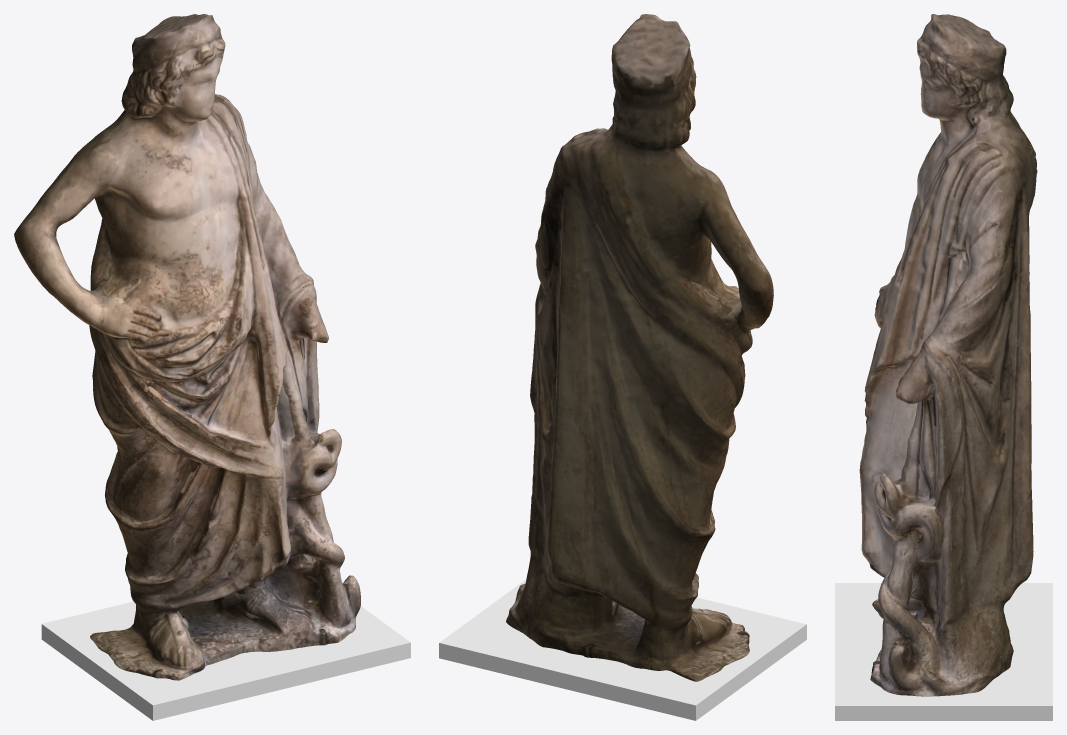
File: preview.glb
3 renders of one model, left to right at view 1: azimuth 30°, elevation 25°; view 2: azimuth 150°, elevation 25°; view 3: azimuth 270°, elevation 25°, orthographic. The views are drawn at different scales.
Visible parts, largest first — view 1: Object_2, Object_7; view 2: Object_2, Object_7; view 3: Object_2, Object_7.
Part boxes in pixels (x1,y1,x2,y2): Object_2: (14,14,360,680); Object_7: (41,601,410,720); Object_2: (506,14,773,681); Object_7: (439,579,806,720); Object_2: (859,14,1037,696); Object_7: (835,583,1052,720).
Bounding box in the file's own units: 1.13 × 2.27 × 0.7149.
2 materials, 1 textured.
